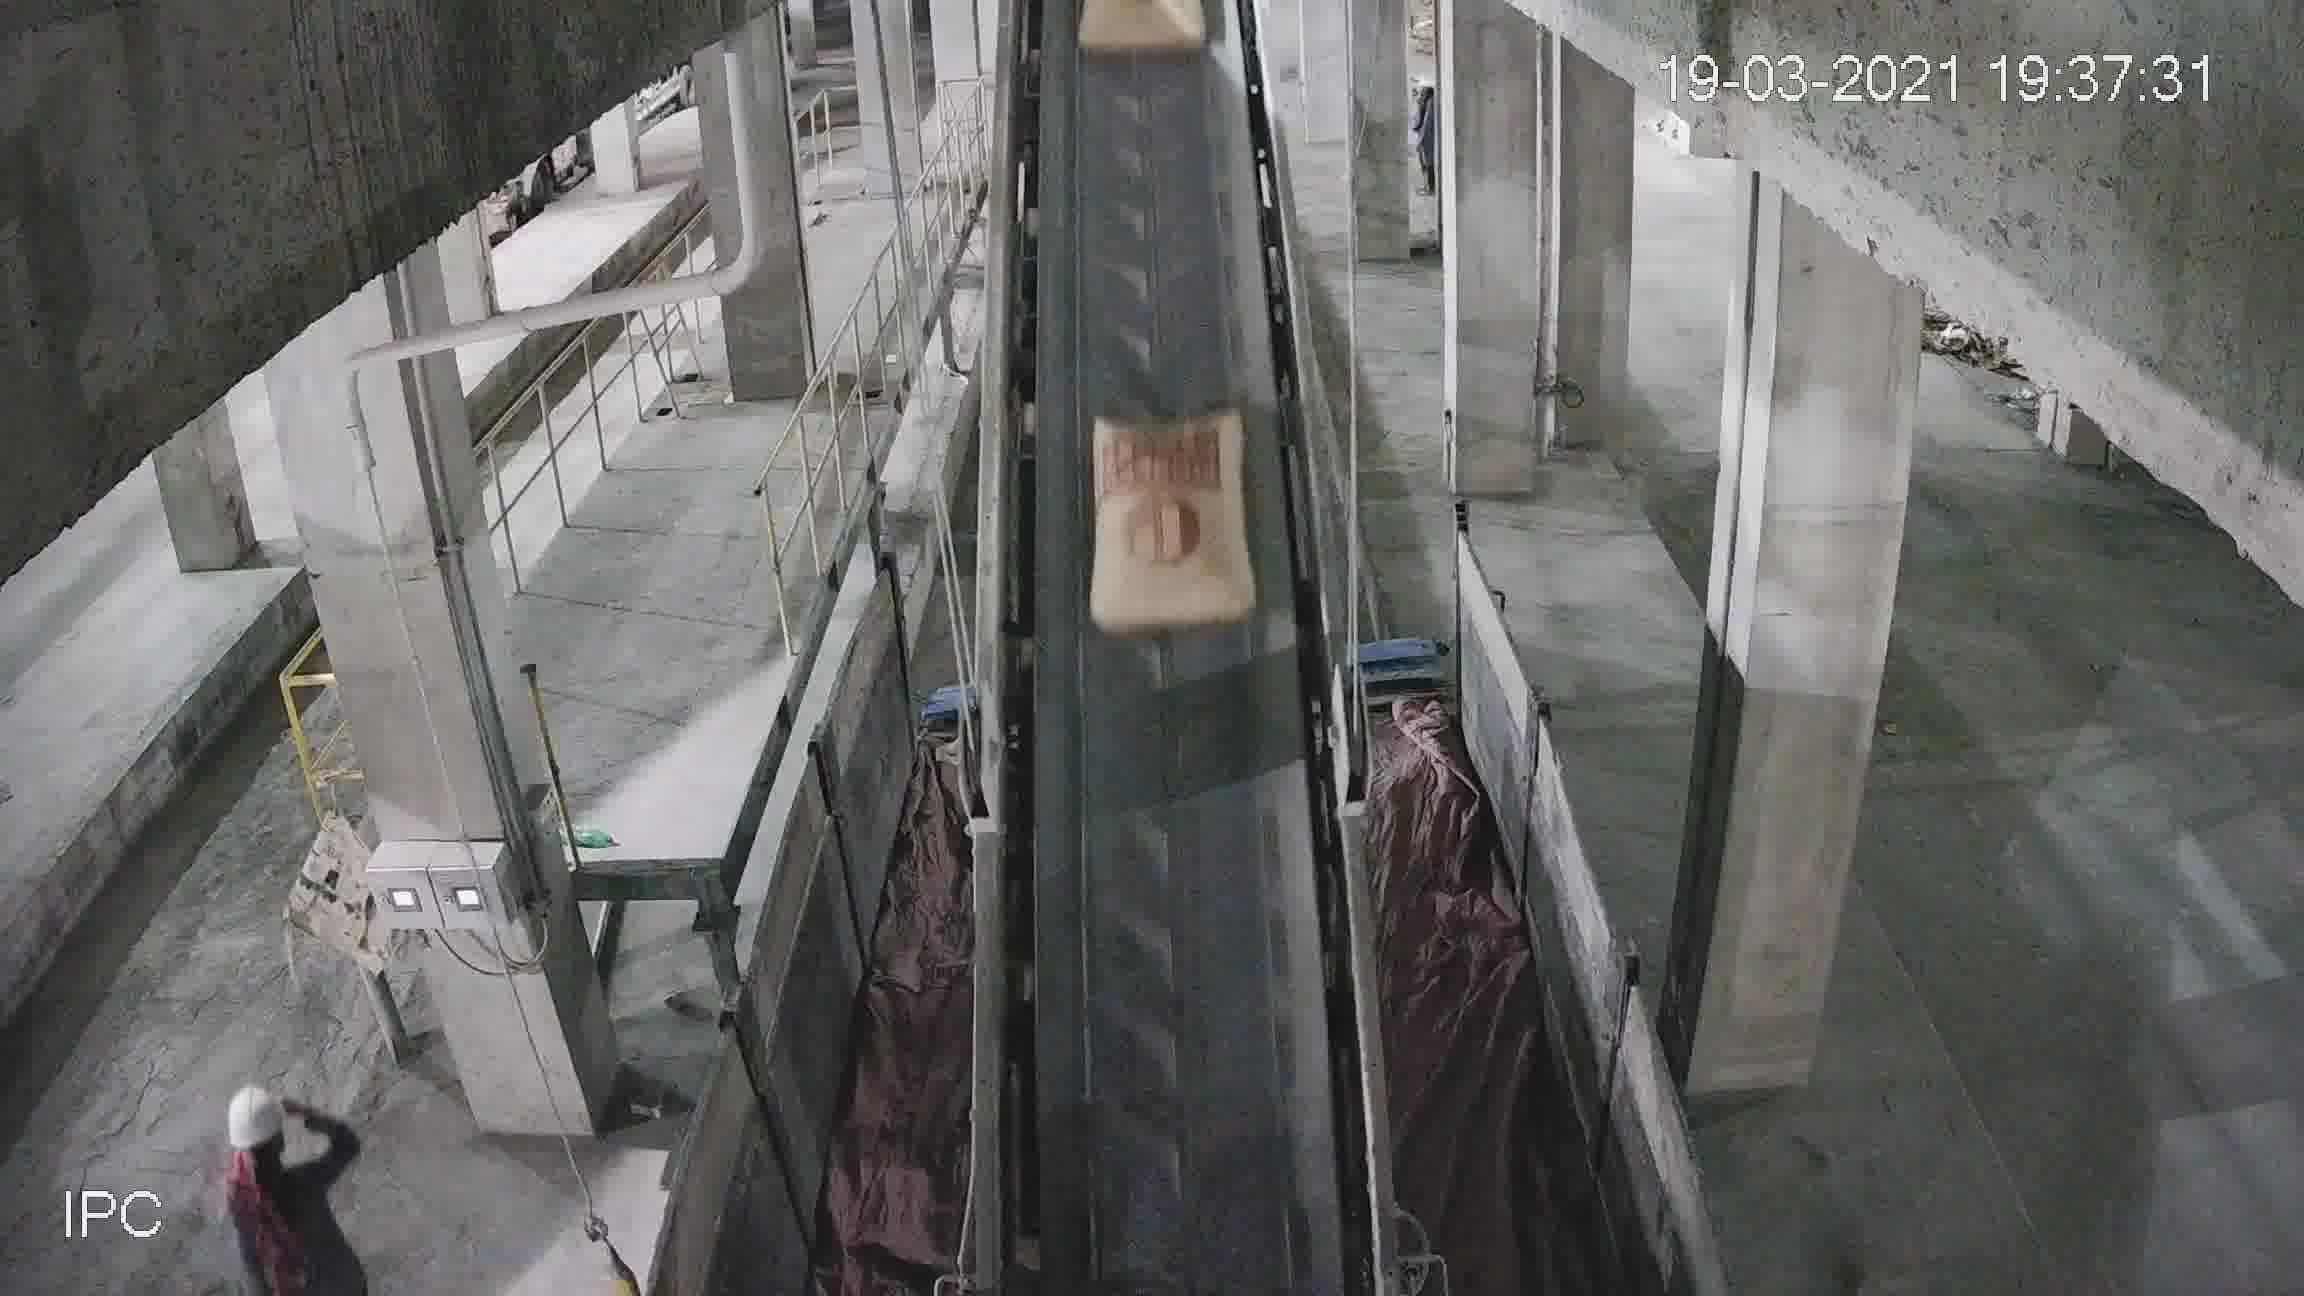bag: (1089, 407, 1249, 631)
belt: (975, 21, 1355, 1161)
